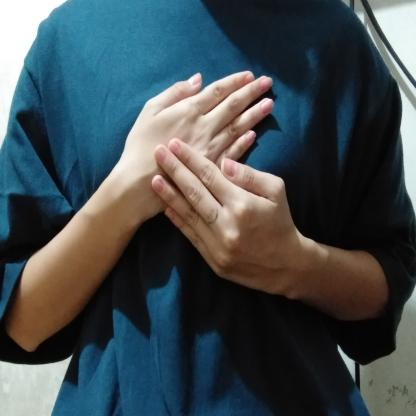thank you: (118, 62, 345, 313)
